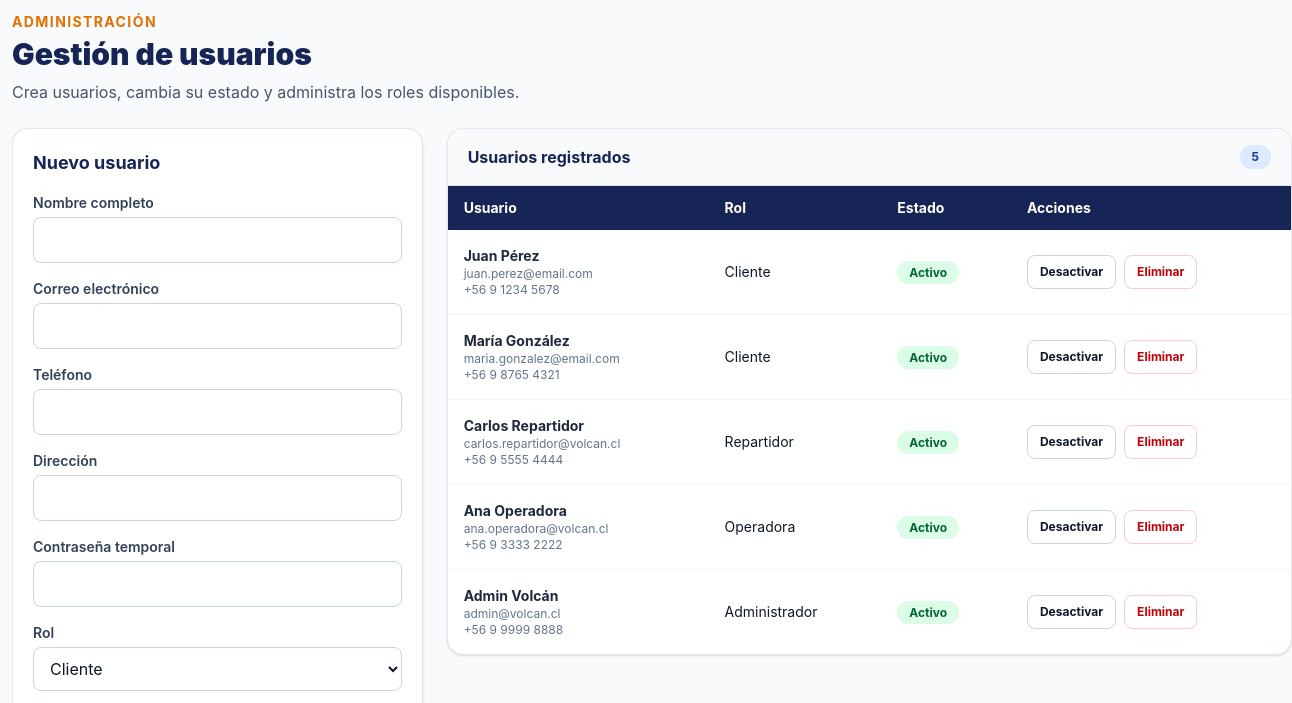
AdminUsuario · estado y eliminación › elimina un usuario cuando se confirma la acción
The image size is (1292, 703).
What coordinates should you click on to do the following:
click the button "Eliminar" in the row of "María González"
I would click on:
 (1161, 357)
Its box is top-left (1124, 340), bottom-right (1197, 374).
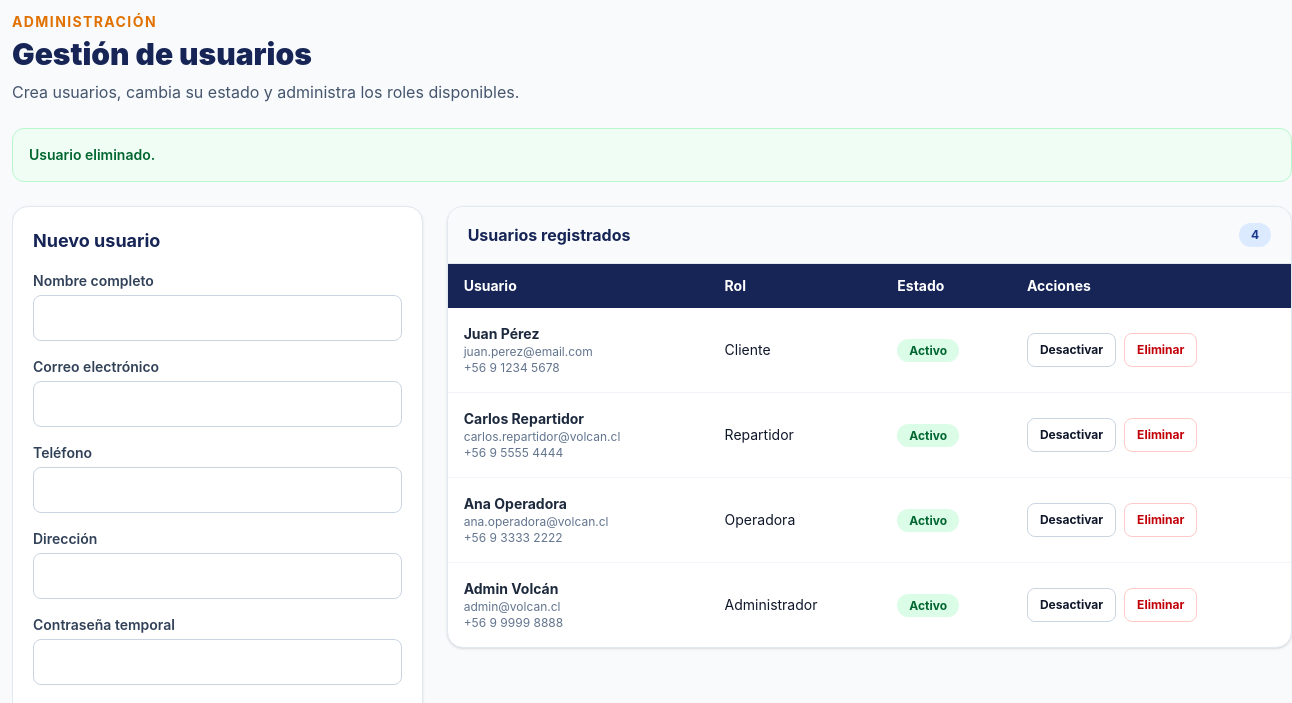
expect the message reads "Usuario eliminado.": met, box top-left (29, 146), bottom-right (155, 163)
expect the text "María González" is gone: met
